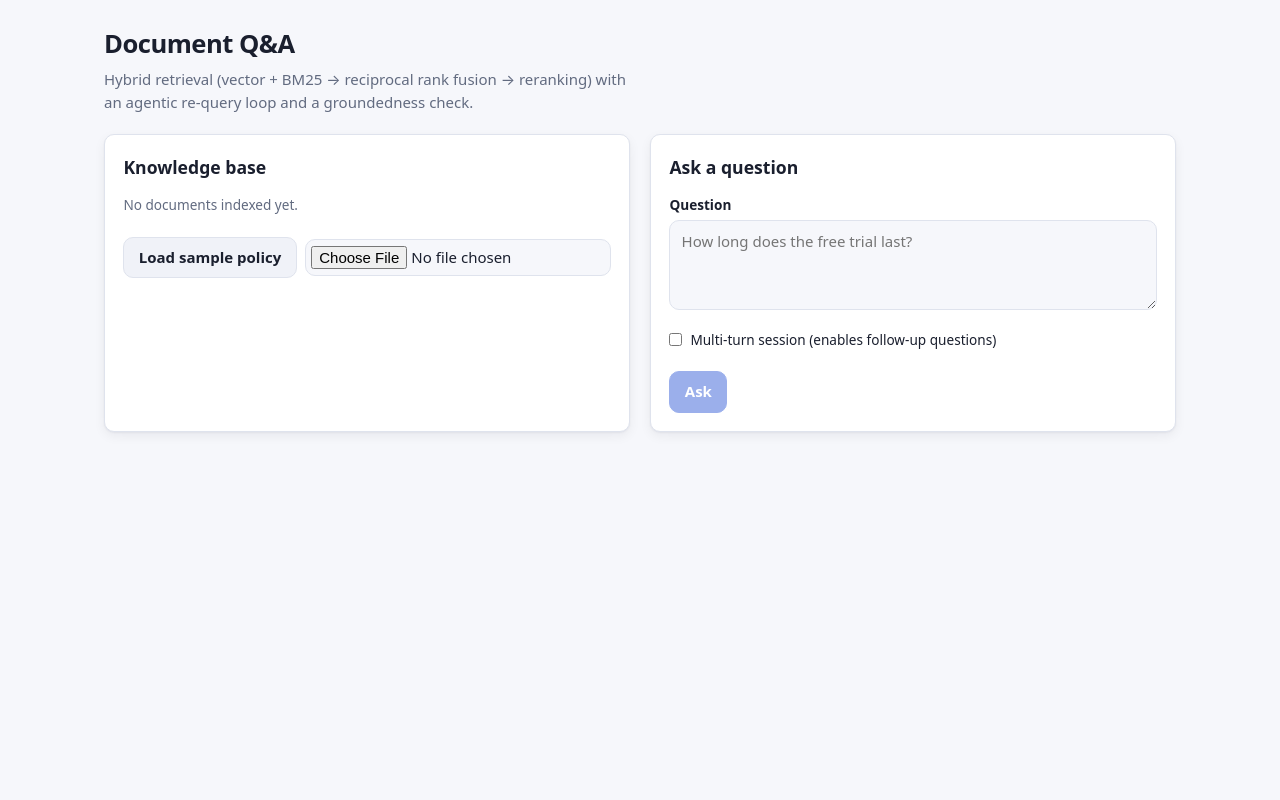
DocQA › renders the answer with citations and cost after a query
The image size is (1280, 800).
Type "How long is the free trial?" into the text box labelled "Question" at (913, 265), box [669, 220, 1157, 310]
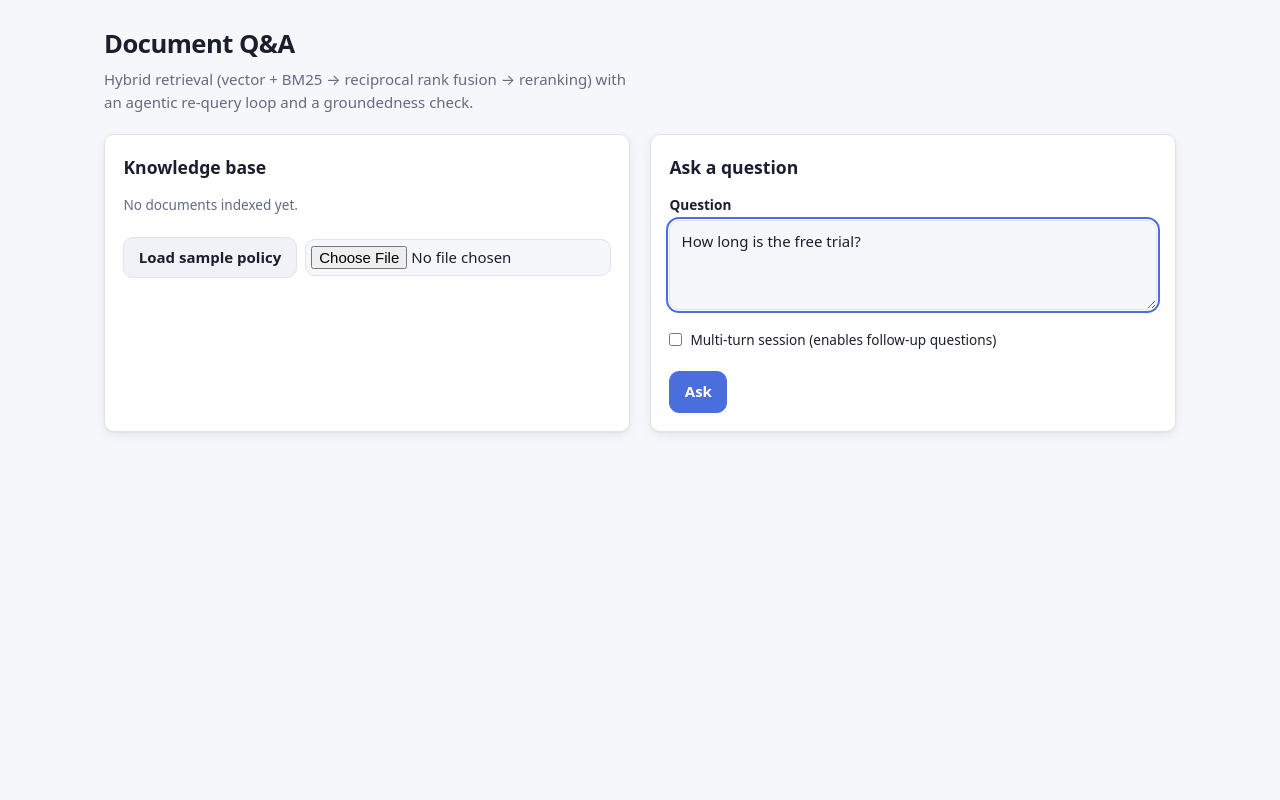
Click the button "Ask" at (698, 392), box [669, 371, 727, 413]
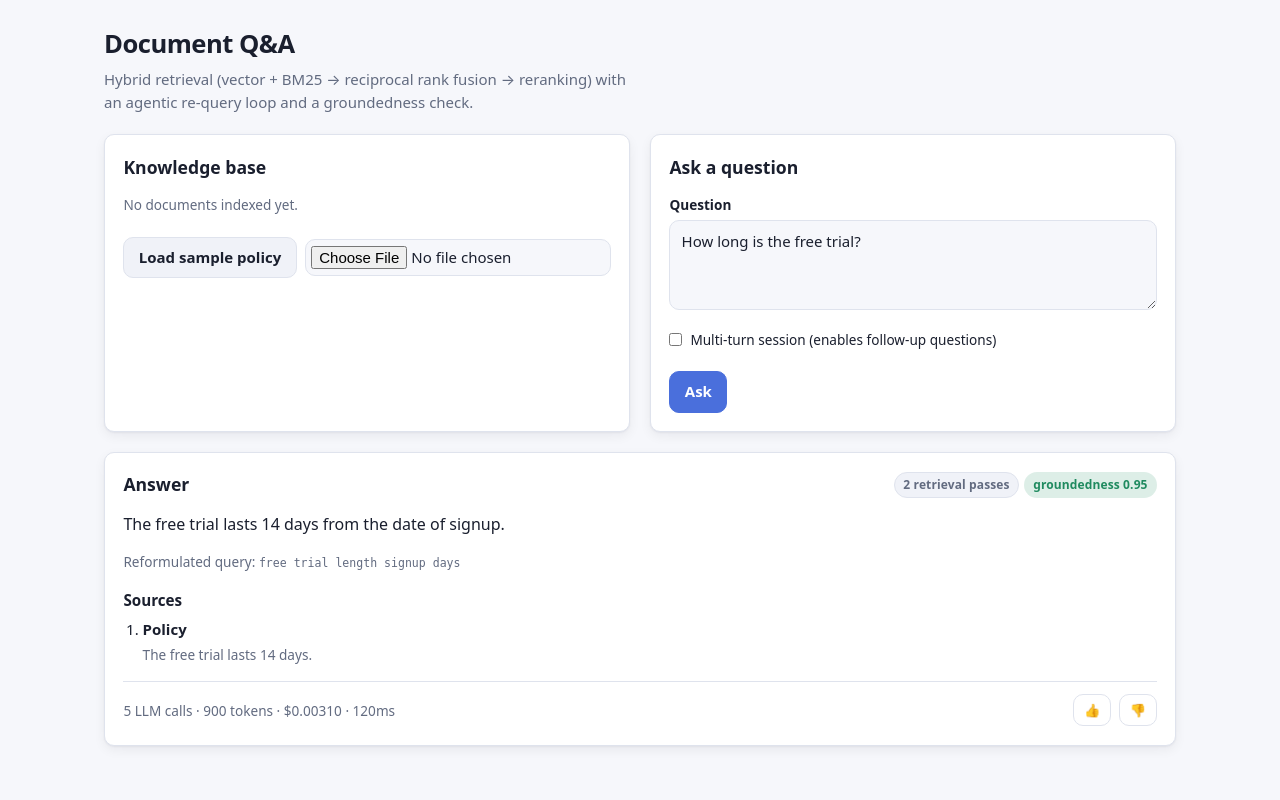
Now the text with class "answer-body" reads "The free trial lasts 14 days from the date of signup.", box [123, 513, 505, 535]
Now the text "Policy" is shown, box [143, 620, 187, 640]
Now the text "2 retrieval passes" is shown, box [894, 472, 1019, 498]
